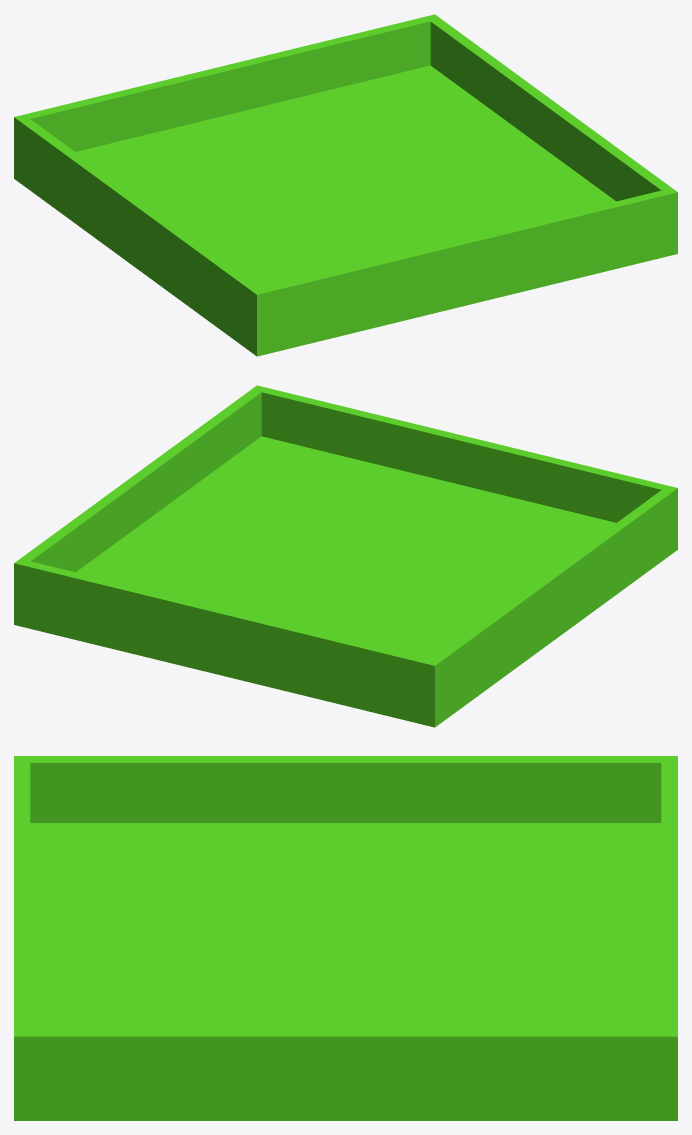
The model's file is green_tray.dae.
The picture shows the model from 3 angles, top to bottom: view 1: azimuth 30°, elevation 25°; view 2: azimuth 150°, elevation 25°; view 3: azimuth 270°, elevation 25°; orthographic projection. The views are drawn at different scales.
Parts seen in each view (by area): view 1: Cube; view 2: Cube; view 3: Cube.
Boxes of the visible parts, x1,y1,x2,y2 form: Cube: [14, 14, 677, 356]; Cube: [14, 385, 677, 727]; Cube: [14, 756, 677, 1120].
Size of the model in its own units: 0.5 by 0.5 by 0.07.
